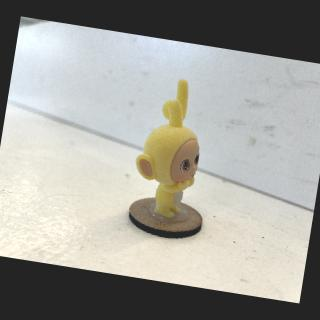teletubby: (136, 79, 199, 217)
